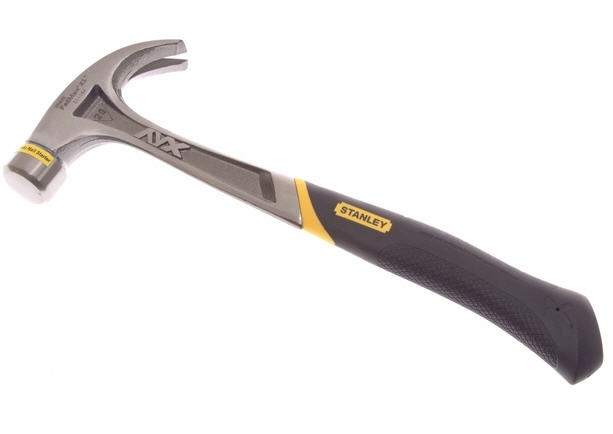hammer: (5, 37, 603, 390)
